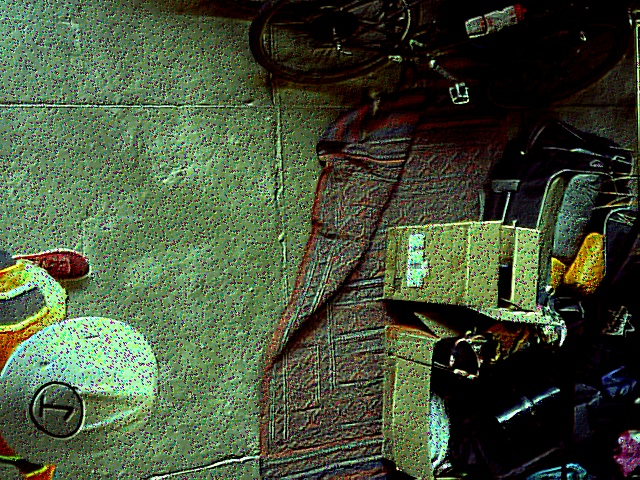one: (31, 382, 83, 438)
